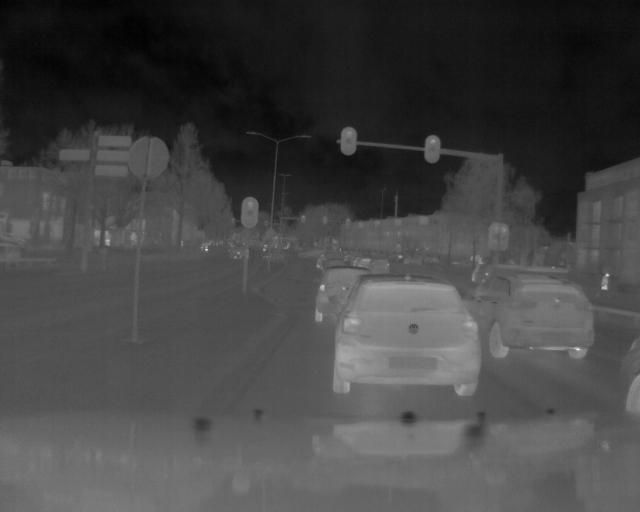car: (334, 267, 484, 397), (481, 270, 594, 352), (317, 264, 364, 313)
person: (597, 269, 610, 297)
